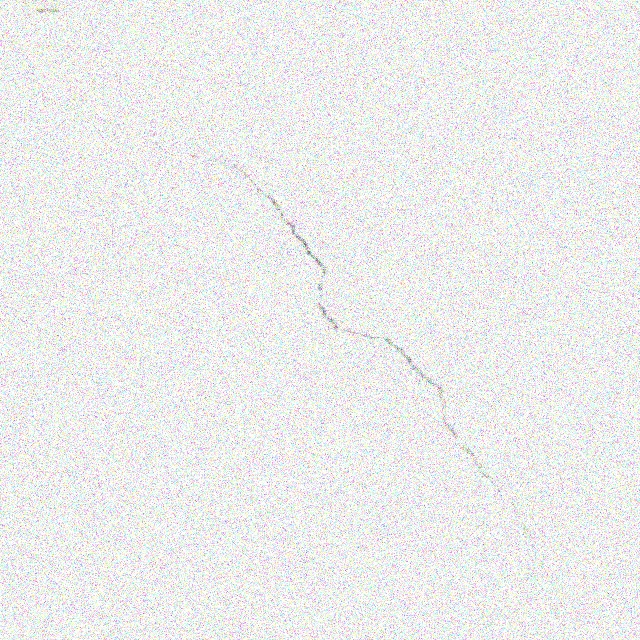SurfaceCrack: (134, 116, 558, 560)
